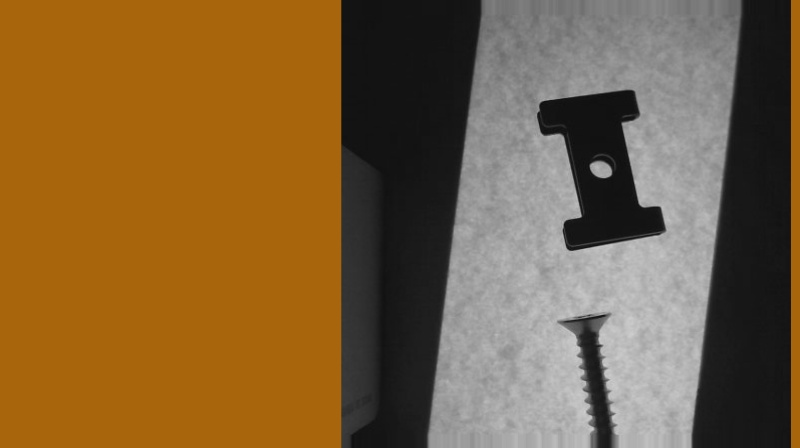O002: (535, 89, 665, 248)
S001: (557, 308, 620, 447)
